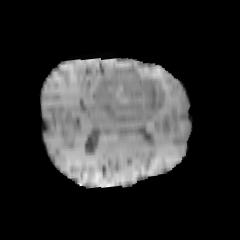glioma: (93, 65, 166, 123)
